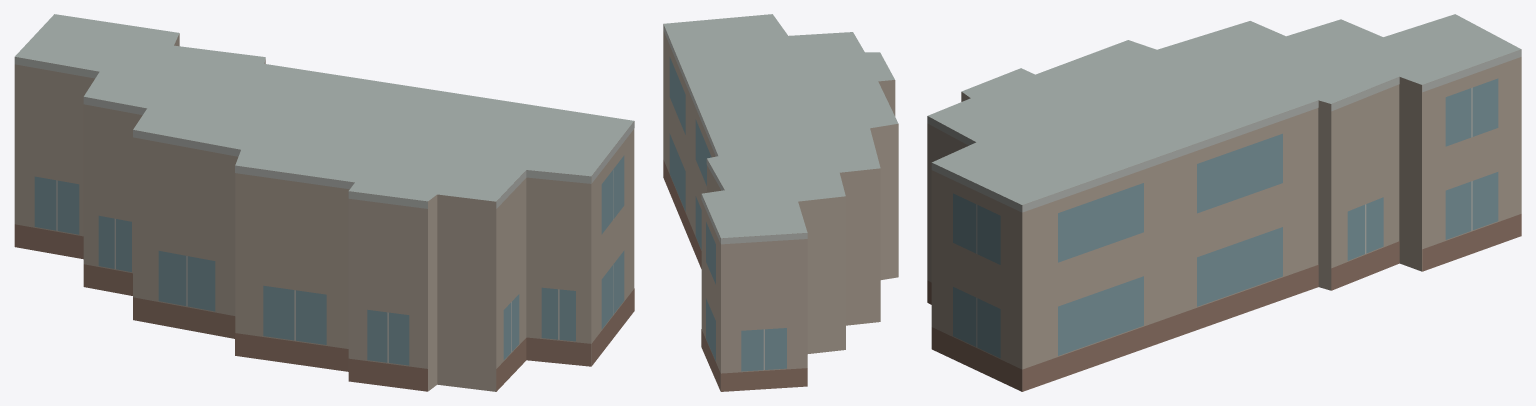
The model's file is survey-upis-32881607.glb.
The picture shows the model from 3 angles, left to right: view 1: azimuth 30°, elevation 25°; view 2: azimuth 150°, elevation 25°; view 3: azimuth 270°, elevation 25°; orthographic projection. The views are drawn at different scales.
Visible parts, largest first — view 1: survey-upis-32881607.tmp; view 2: survey-upis-32881607.tmp; view 3: survey-upis-32881607.tmp.
Part boxes in pixels (left/top/right/bottom): survey-upis-32881607.tmp: left=14, top=14, right=634, bottom=391; survey-upis-32881607.tmp: left=663, top=14, right=898, bottom=391; survey-upis-32881607.tmp: left=927, top=14, right=1521, bottom=391.
Size of the model in its own units: 13.4 by 6.1 by 17.6.
